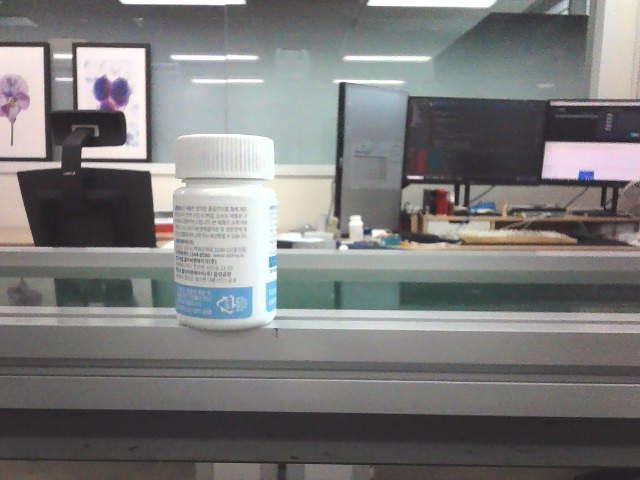labeled: (169, 127, 282, 335)
